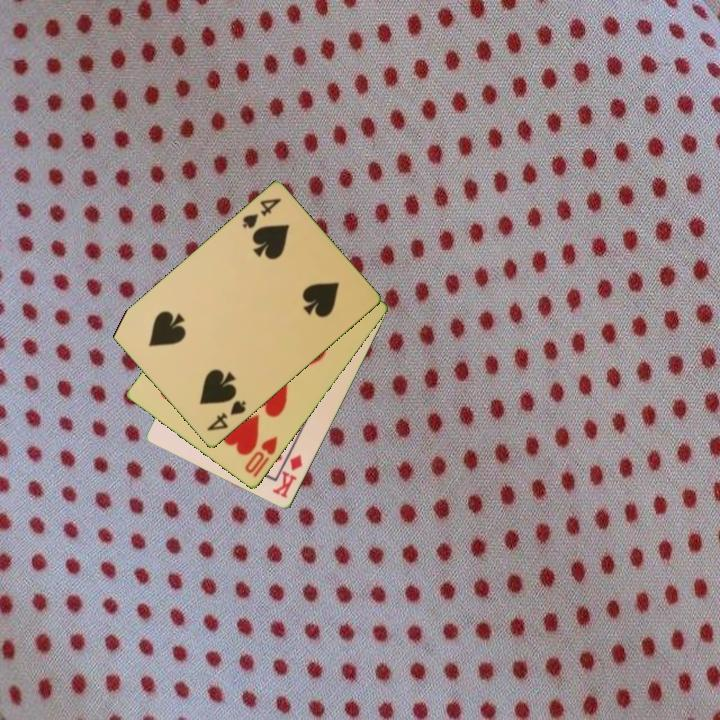10h: (241, 433, 281, 481)
4s: (238, 195, 285, 232), (203, 397, 249, 434)
Kd: (269, 451, 305, 501)
